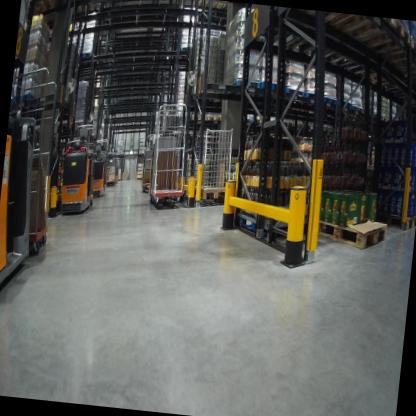pallet: (292, 9, 394, 71), (322, 12, 414, 71), (352, 25, 416, 95), (306, 203, 389, 253), (374, 53, 416, 107), (222, 78, 260, 106), (190, 179, 232, 204), (384, 203, 416, 232), (10, 88, 40, 118), (76, 46, 96, 72), (199, 0, 226, 19), (29, 0, 56, 19), (47, 0, 79, 15), (280, 87, 307, 103), (259, 79, 283, 95), (67, 118, 90, 134), (201, 111, 226, 125), (184, 109, 204, 126), (305, 89, 323, 107), (335, 98, 351, 114), (322, 93, 337, 106), (349, 103, 362, 117)
pallet_truck: (0, 88, 55, 309), (143, 98, 193, 214), (53, 132, 105, 214), (83, 133, 110, 205), (137, 135, 164, 199), (104, 144, 124, 188)
